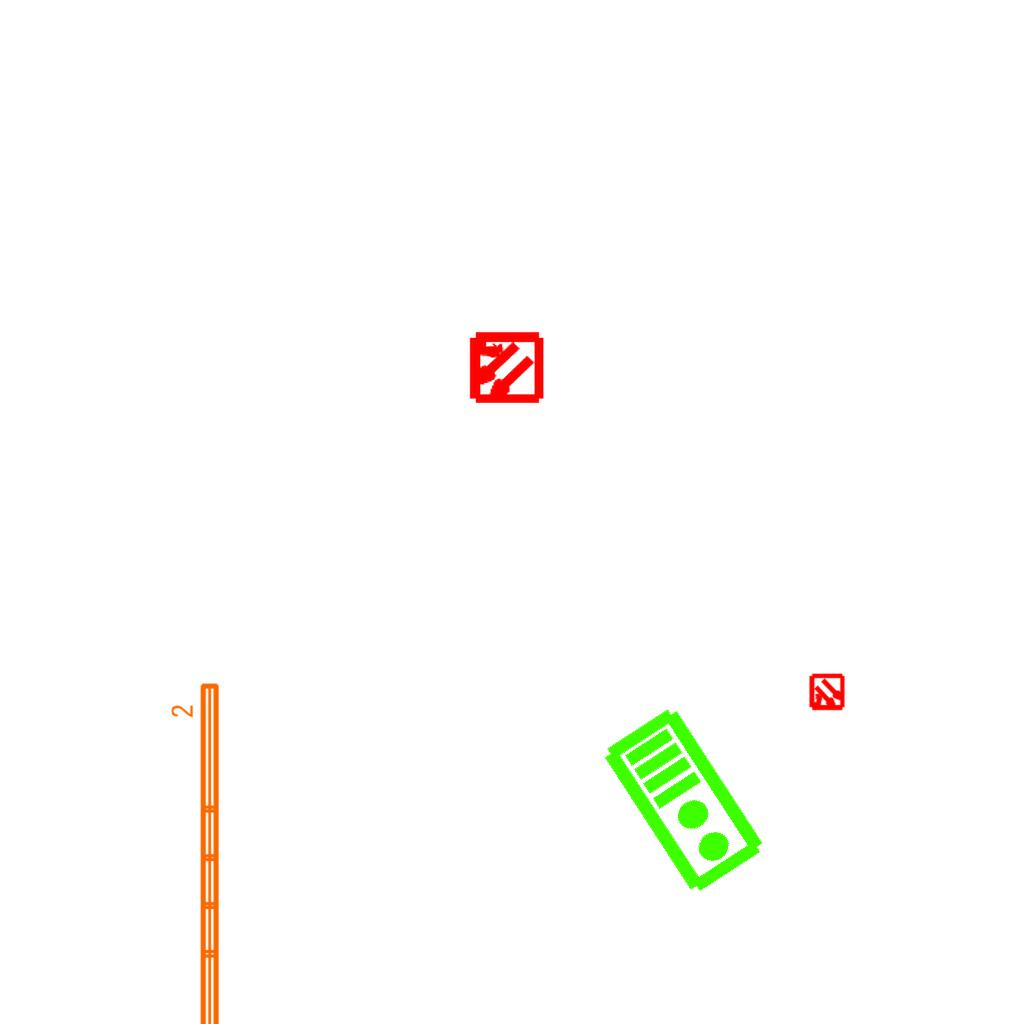Ambulanz_Pendelleuchte_LED: (169, 679, 225, 1024)
Gegensprechanlage_mit_Video: (597, 700, 774, 900)
OT_Multisensormelder_(Kombination_RMO_WMD): (448, 311, 561, 424), (799, 665, 855, 721)
